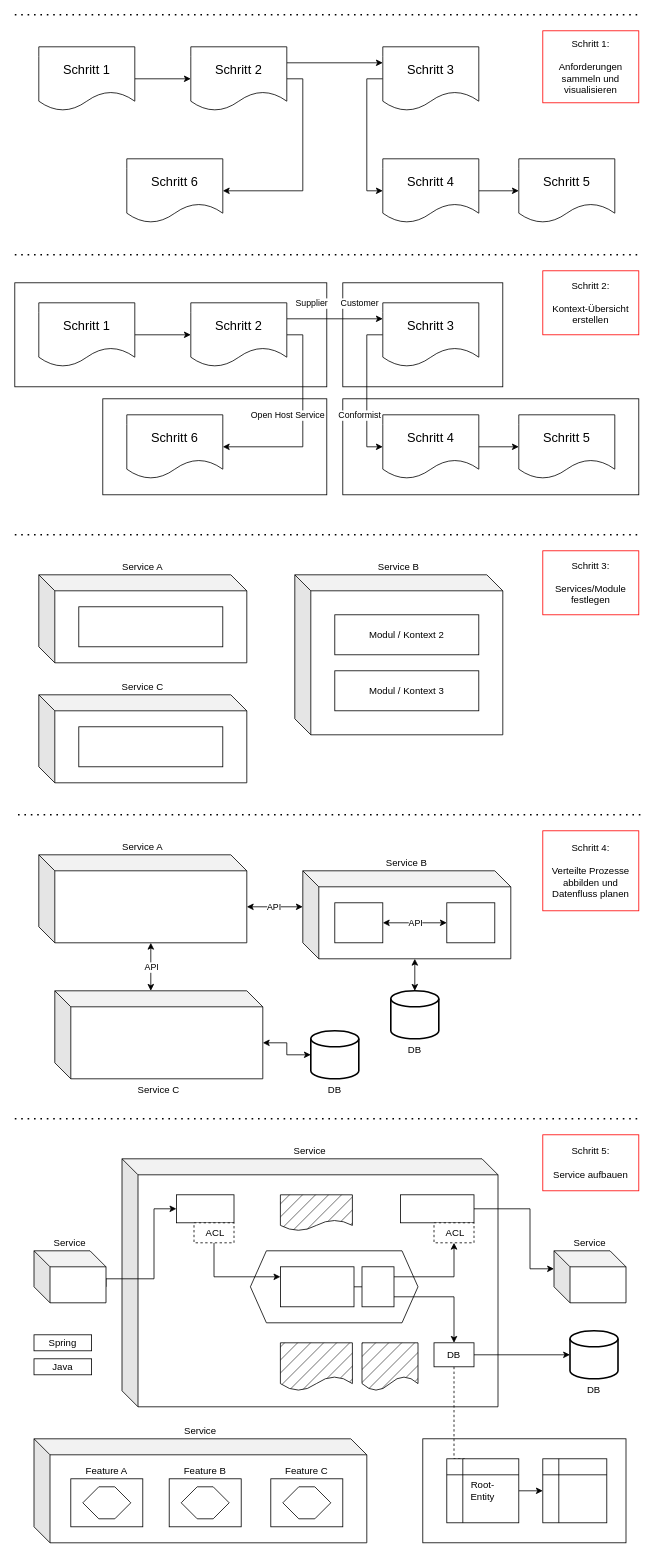
Image size: 657x1557. Some labels were removed from this diagram. Here are the shapes that lost their labels. From the top down, the box of each, then its label:
(14, 282, 327, 387): Kontext 1 (Core)
(342, 282, 503, 387): Kontext 2 (Supporting)
(102, 398, 327, 495): Kontext 4 (Generic)
(342, 398, 639, 495): Kontext 3 (Supporting)
(78, 606, 223, 647): Kontext 1
(78, 726, 223, 767): Kontext 4
(176, 1194, 234, 1223): API (in)
(280, 1194, 352, 1231): DTO
(400, 1194, 474, 1223): API (out)
(280, 1266, 354, 1307): Business
(361, 1266, 394, 1307): Inter- faces
(280, 1342, 352, 1391): Domänen-Modell
(361, 1342, 418, 1391): DB- Modell
(422, 1438, 626, 1543): Aggregate
(542, 1458, 607, 1523): Value Object
